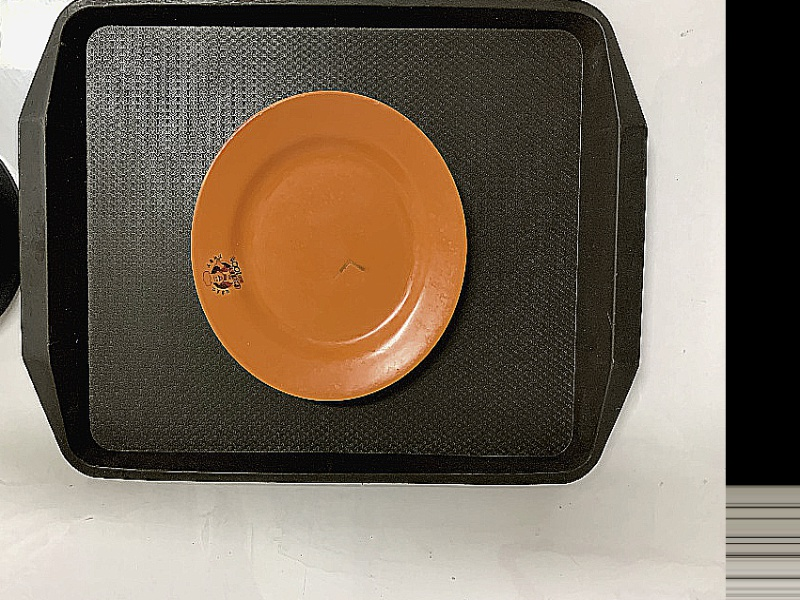dish10: (186, 85, 471, 405)
